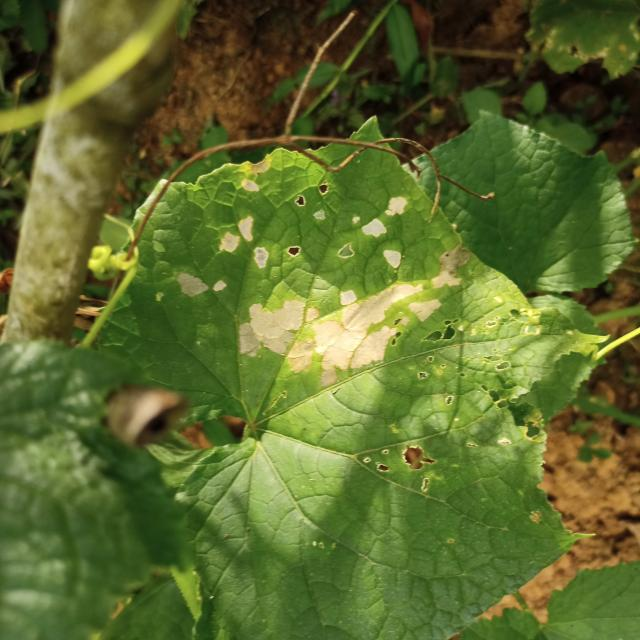disease_cucumber: (177, 159, 467, 389)
